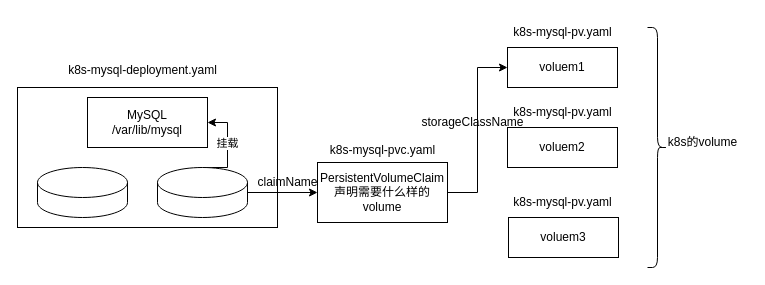
The diagram is 765 pixels wide and 285 high, and some of its shapes have lost their labels. The shapes that lost their labels are listed below. From the top down, each one's centre as x and y in pixels, then its label:
the point at 82,192: hadoop-storage
the point at 202,192: mysql-storage
